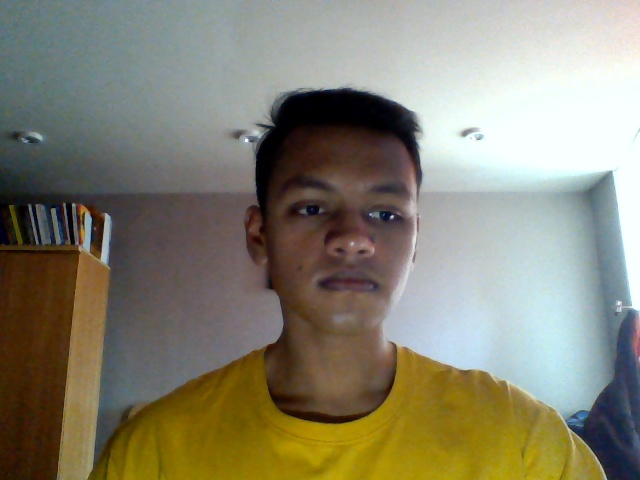no_mask: (267, 232, 407, 338)
